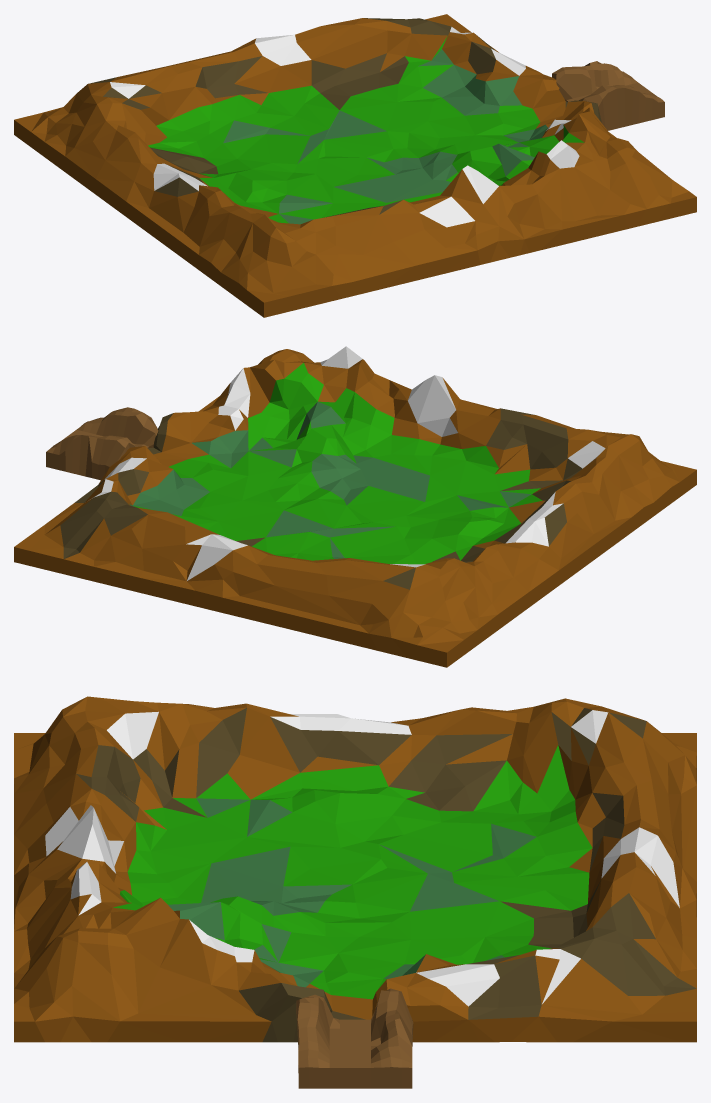
Rendered from Terrain1.fbx.
3 renders of one model, top to bottom at view 1: azimuth 30°, elevation 25°; view 2: azimuth 150°, elevation 25°; view 3: azimuth 270°, elevation 25°, orthographic. The views are drawn at different scales.
Visible parts, largest first — view 1: Plane; view 2: Plane; view 3: Plane.
Part boxes in pixels (x1,y1,x2,y2): Plane: [14, 14, 696, 317]; Plane: [14, 346, 696, 667]; Plane: [14, 696, 696, 1088].
Size of the model in its own units: 70008 by 10642 by 60006.
